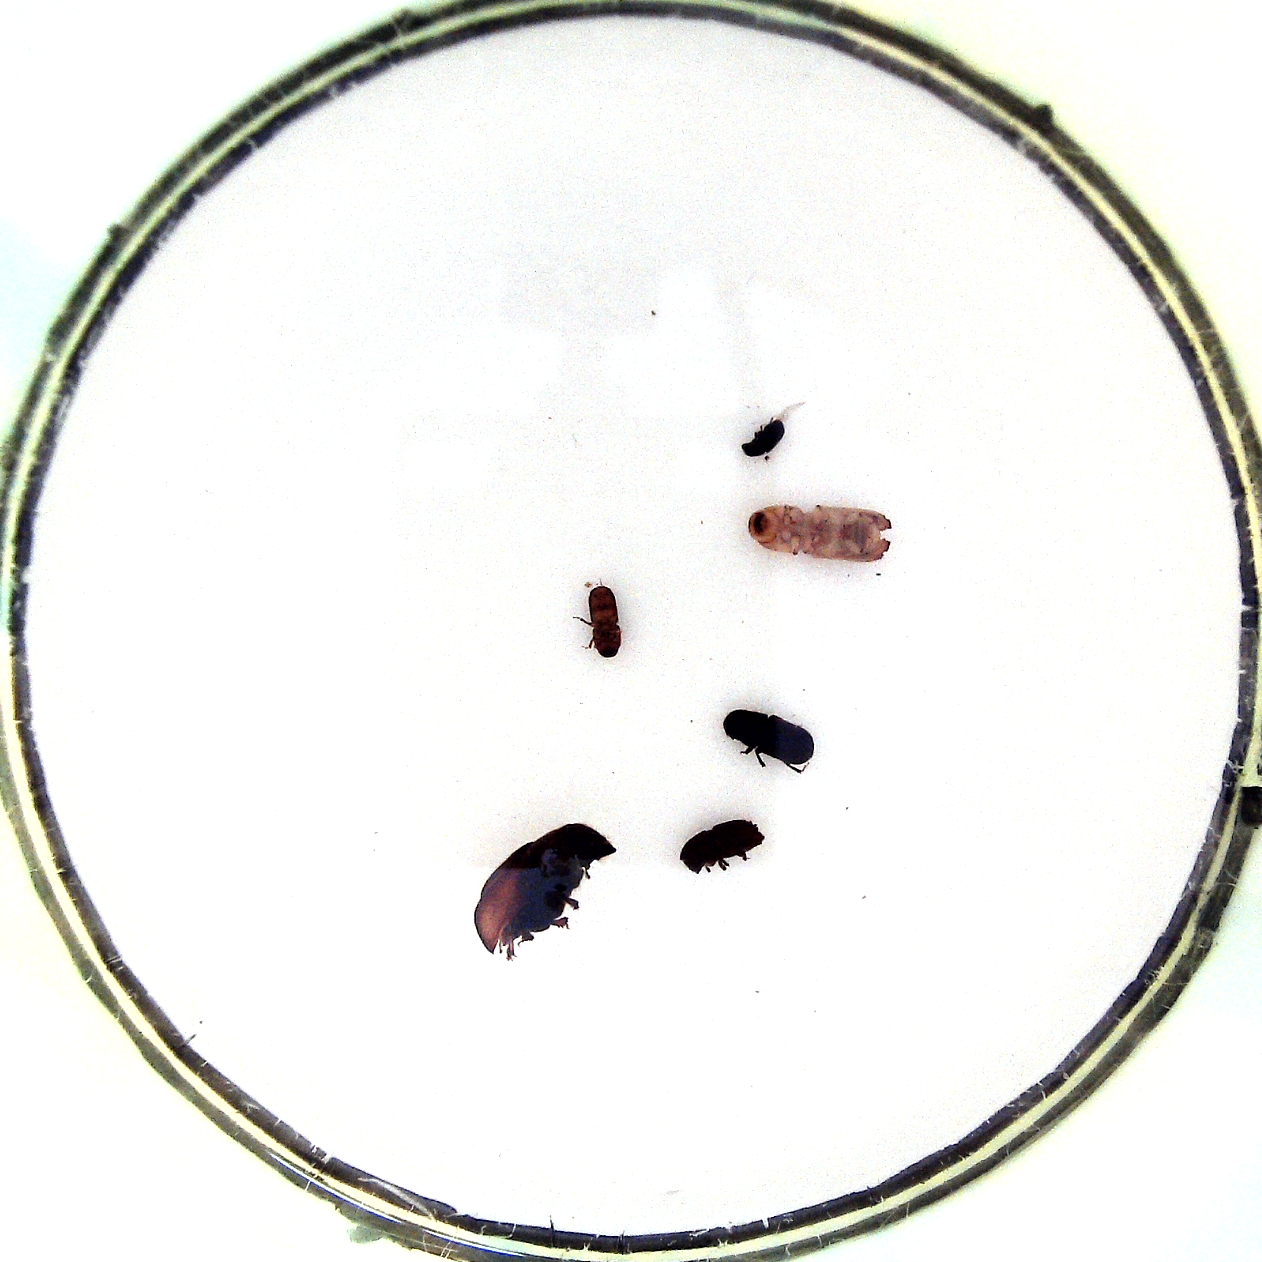Boerner: (747, 493, 900, 565)
Leconte: (467, 817, 621, 962)
Linnaeus: (678, 815, 767, 878)
acuminatus: (576, 584, 629, 666)
armandi: (719, 710, 818, 771)
coleoptera: (734, 414, 793, 463)
